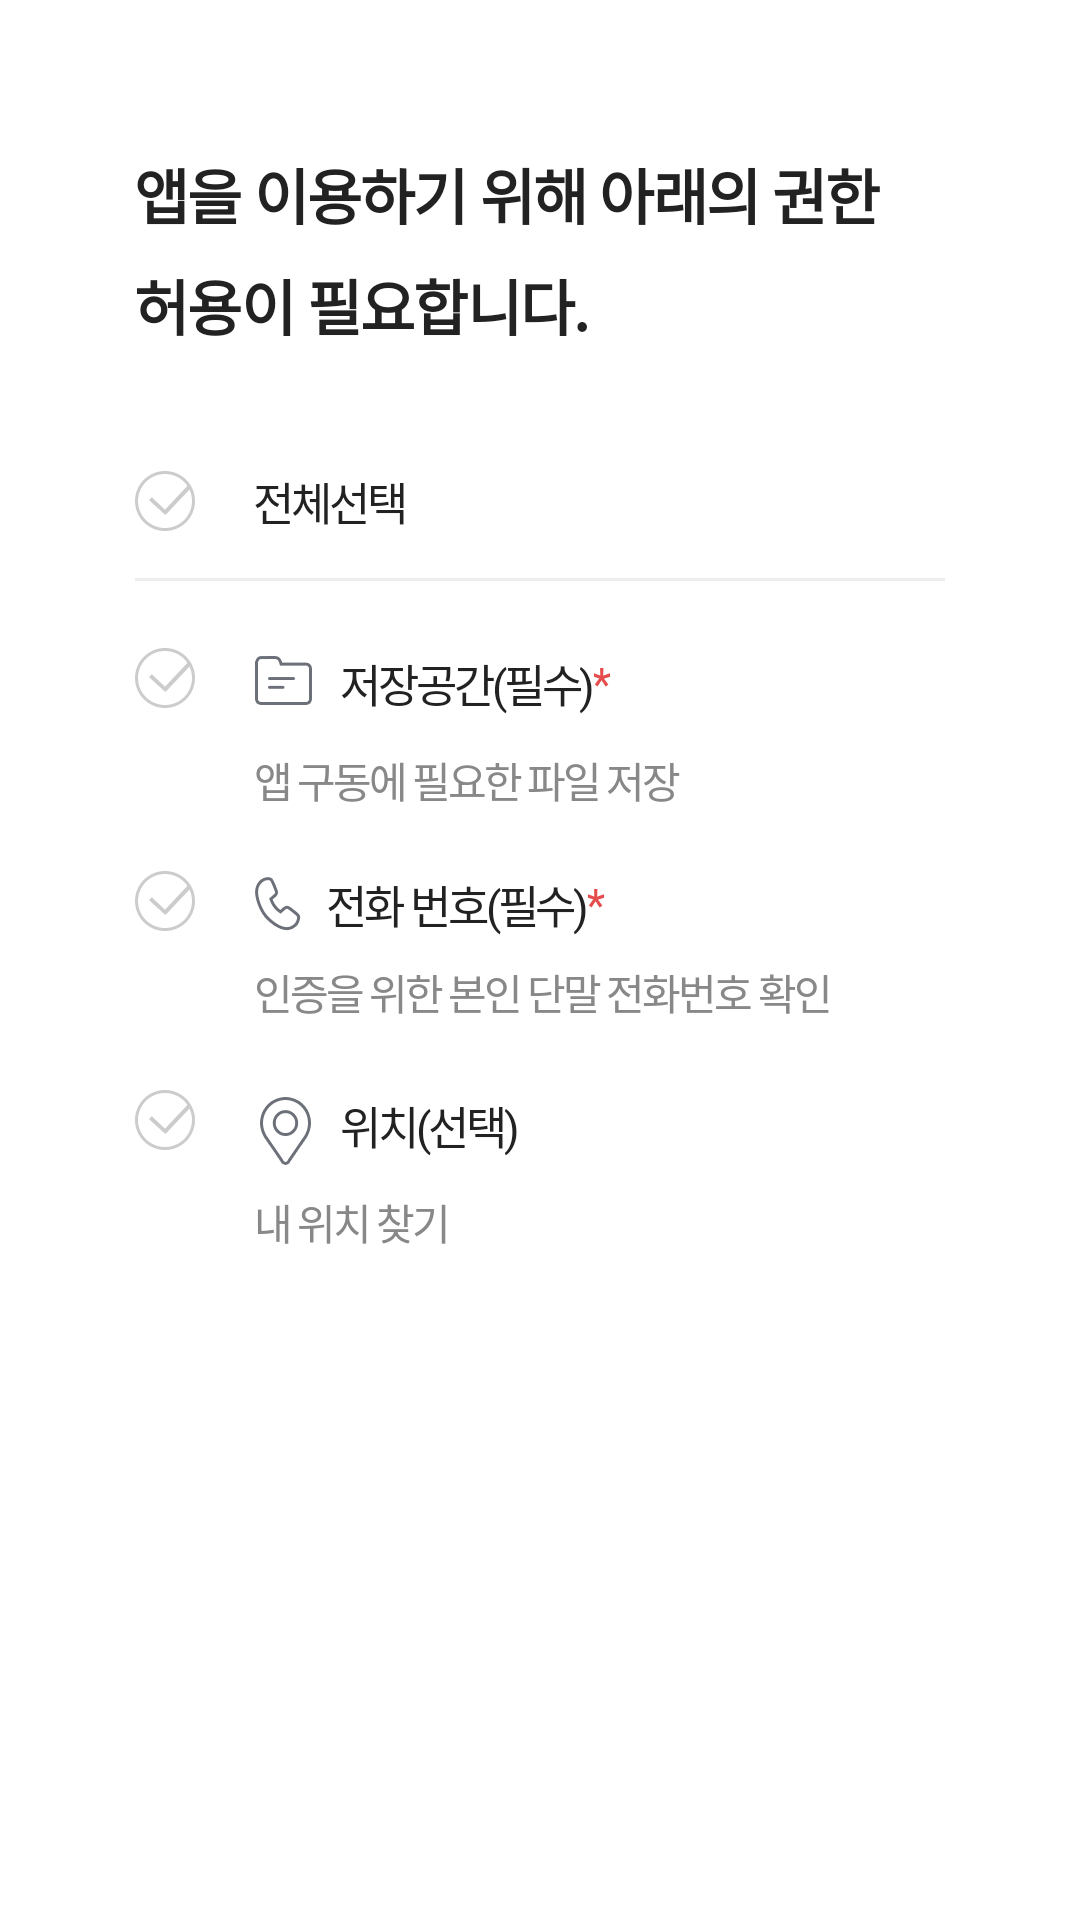

Where to tap for icons on this 1080x1920 app screen, as point (x, y):
checkbox: point (165, 501), point (165, 678), point (165, 901), point (165, 1120)
po location: point (285, 1131)
po phone: point (277, 903)
po storage: point (283, 680)
